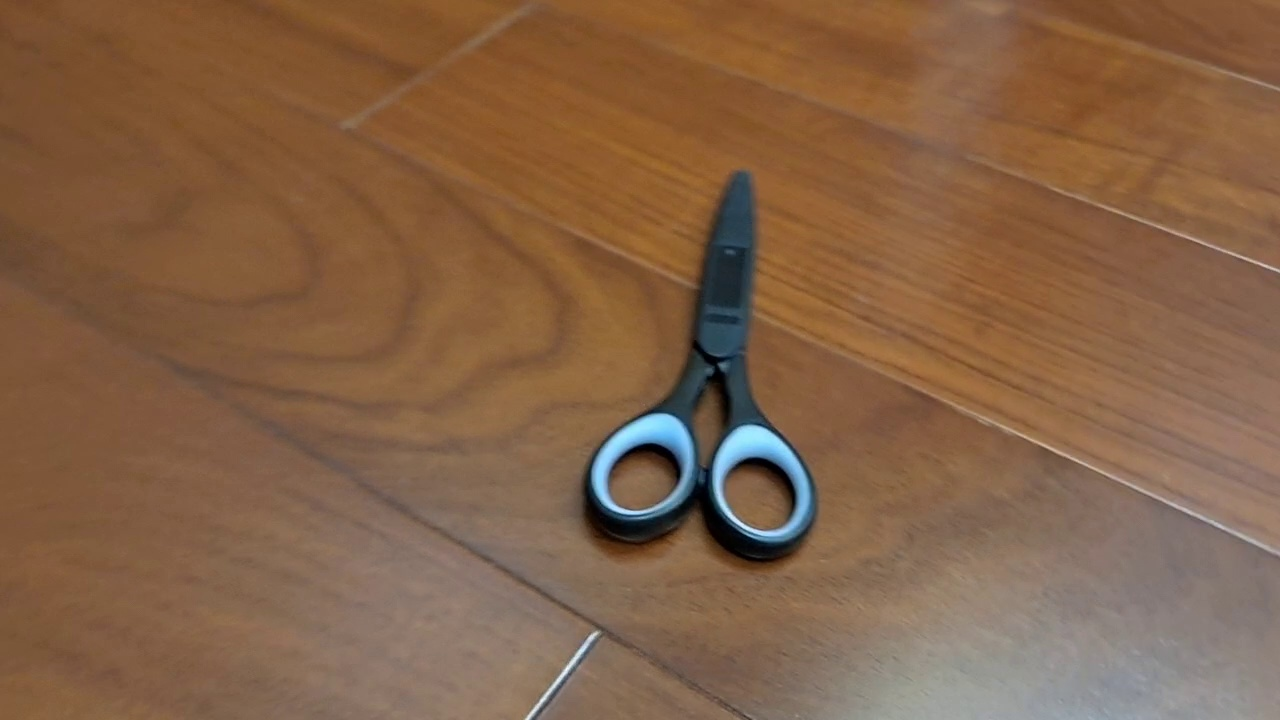scissors: (580, 167, 820, 564)
